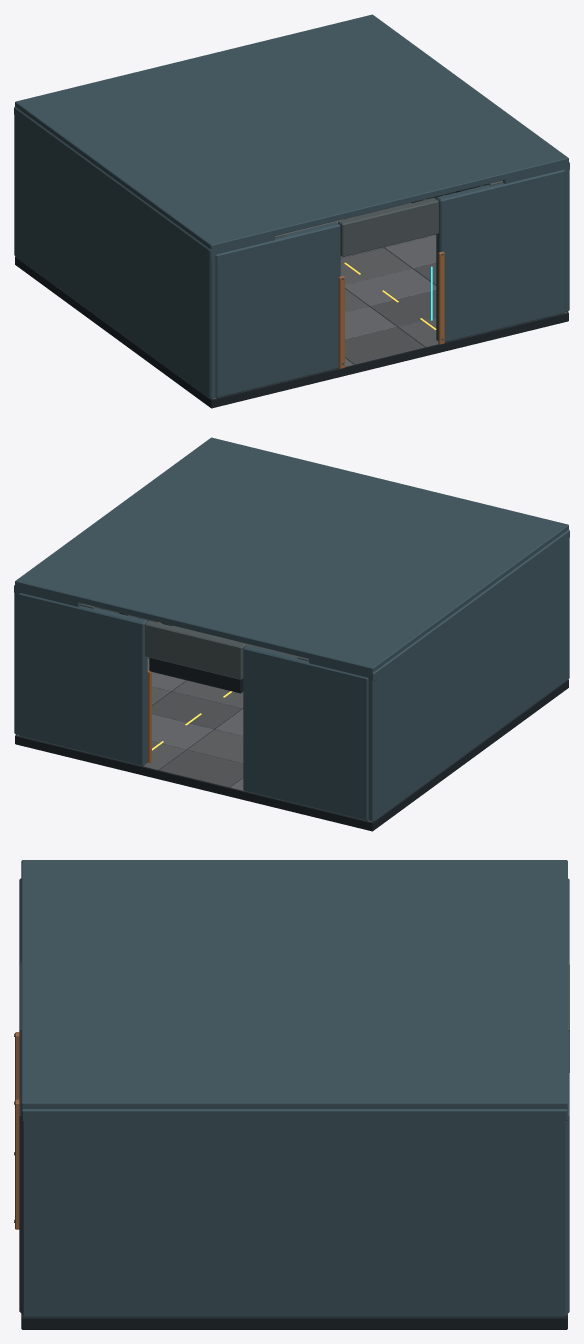
Rendered from e10a-vault-arrival-shell.glb.
3 views of the same model, one above another, from view 1: azimuth 30°, elevation 25°; view 2: azimuth 150°, elevation 25°; view 3: azimuth 270°, elevation 25° (orthographic). The views are drawn at different scales.
Visible parts, largest first — view 1: E10a 12m arrival shell; view 2: E10a 12m arrival shell; view 3: E10a 12m arrival shell.
Part boxes in pixels (bbox=[...]): E10a 12m arrival shell: bbox=[14, 14, 569, 408]; E10a 12m arrival shell: bbox=[14, 437, 569, 831]; E10a 12m arrival shell: bbox=[14, 860, 569, 1329].
Bounding box in the file's own units: 12.08 × 5.24 × 11.6.
